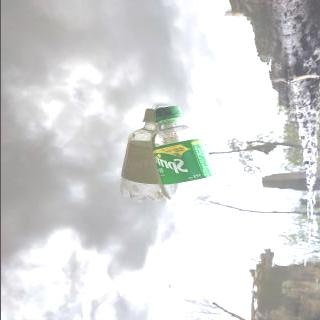bottle: (146, 104, 224, 207)
